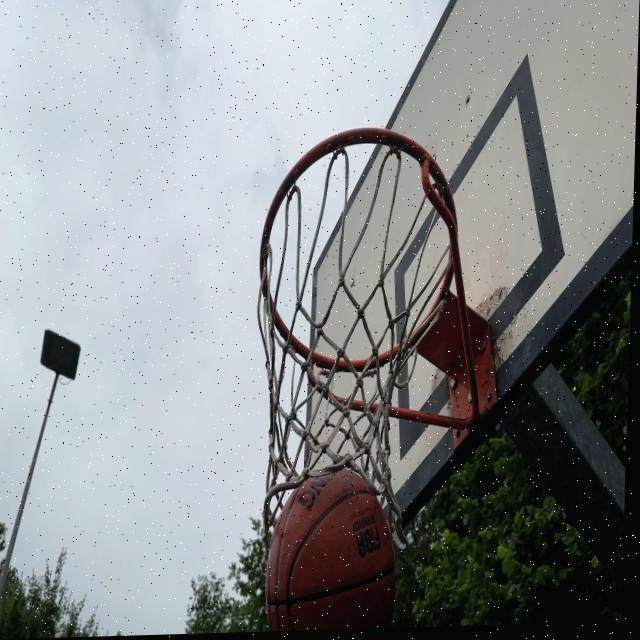Basketball: (271, 467, 403, 630)
